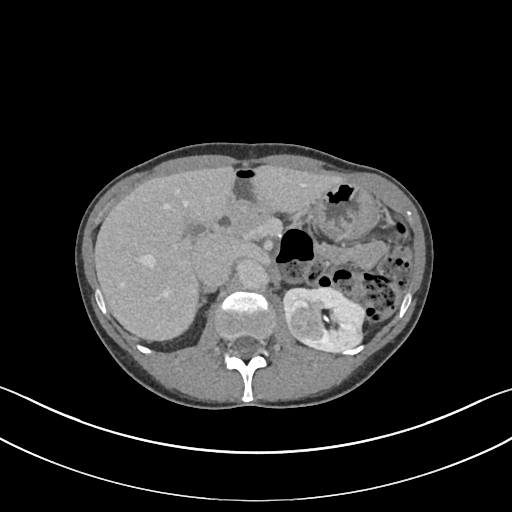Lesion: (285, 305, 325, 342)
